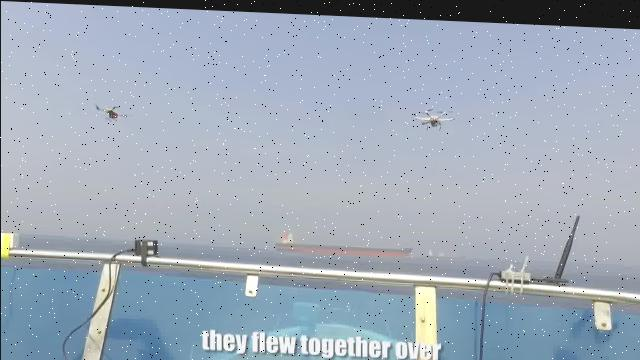drone: (65, 77, 157, 140)
